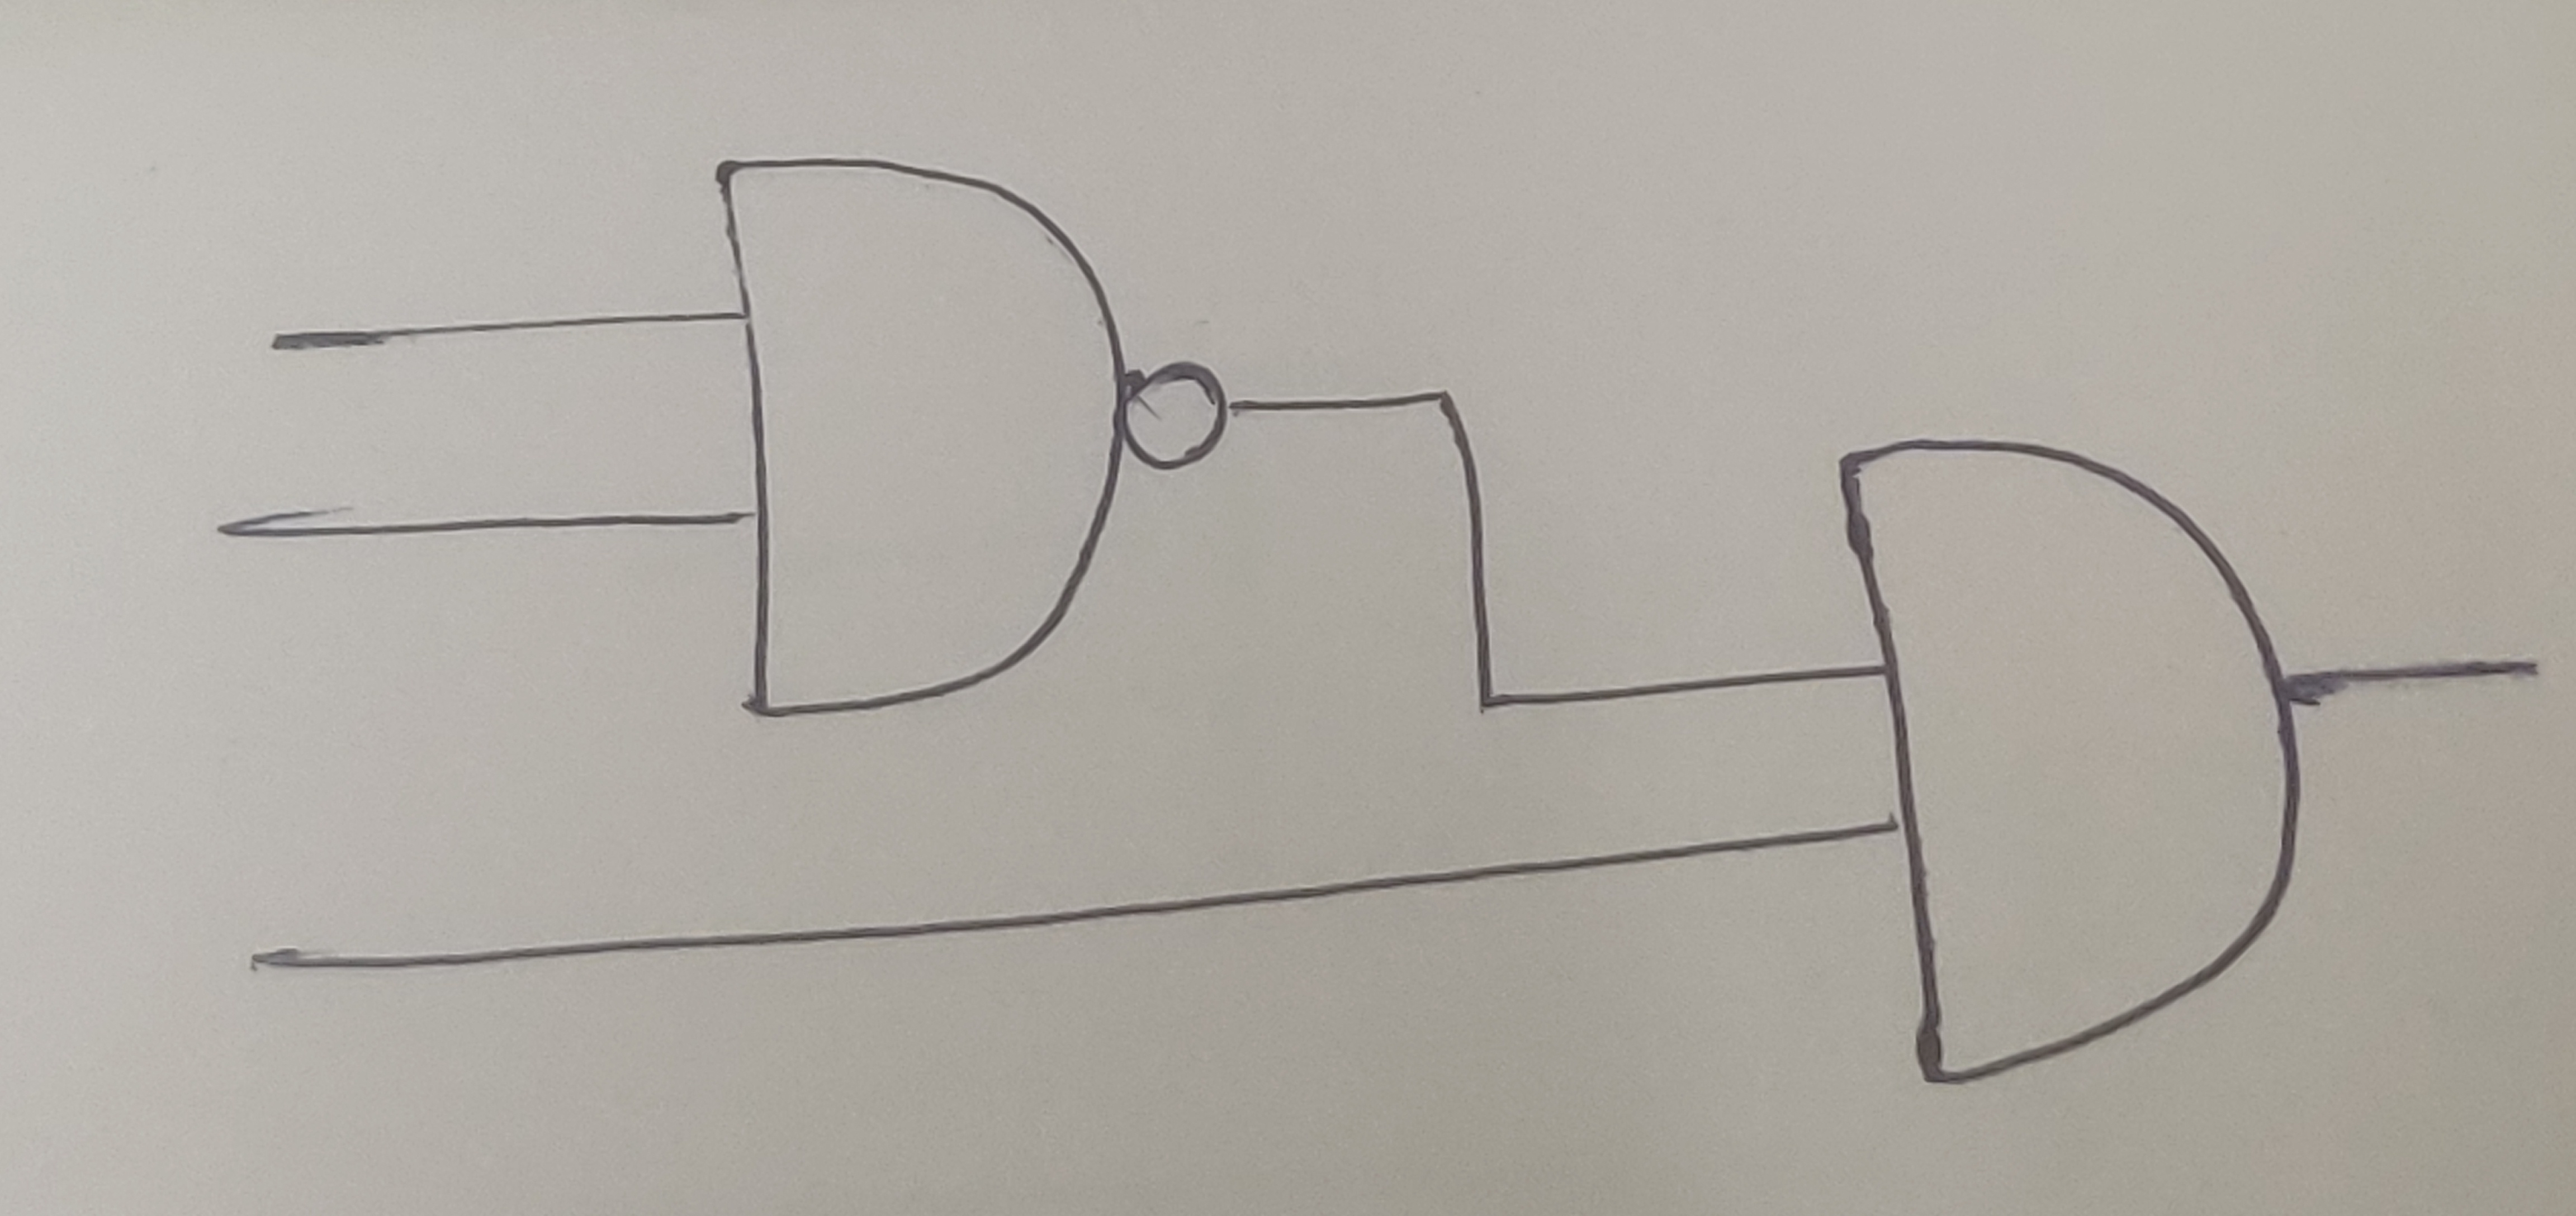and: (1830, 437, 2310, 1088), (708, 154, 1134, 716)
not: (1120, 362, 1235, 480)
